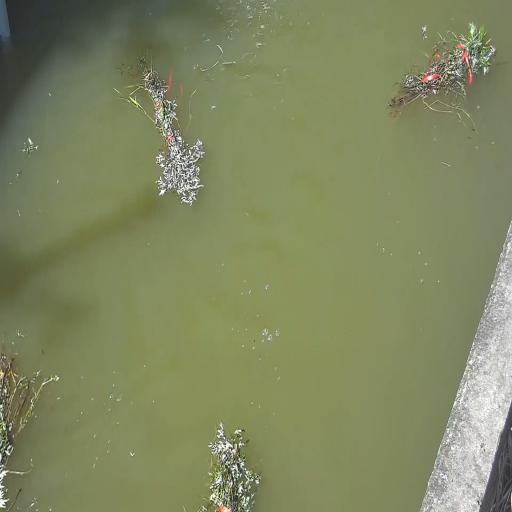twig: (116, 52, 204, 206), (386, 21, 500, 126), (0, 325, 59, 508), (200, 420, 262, 512)
